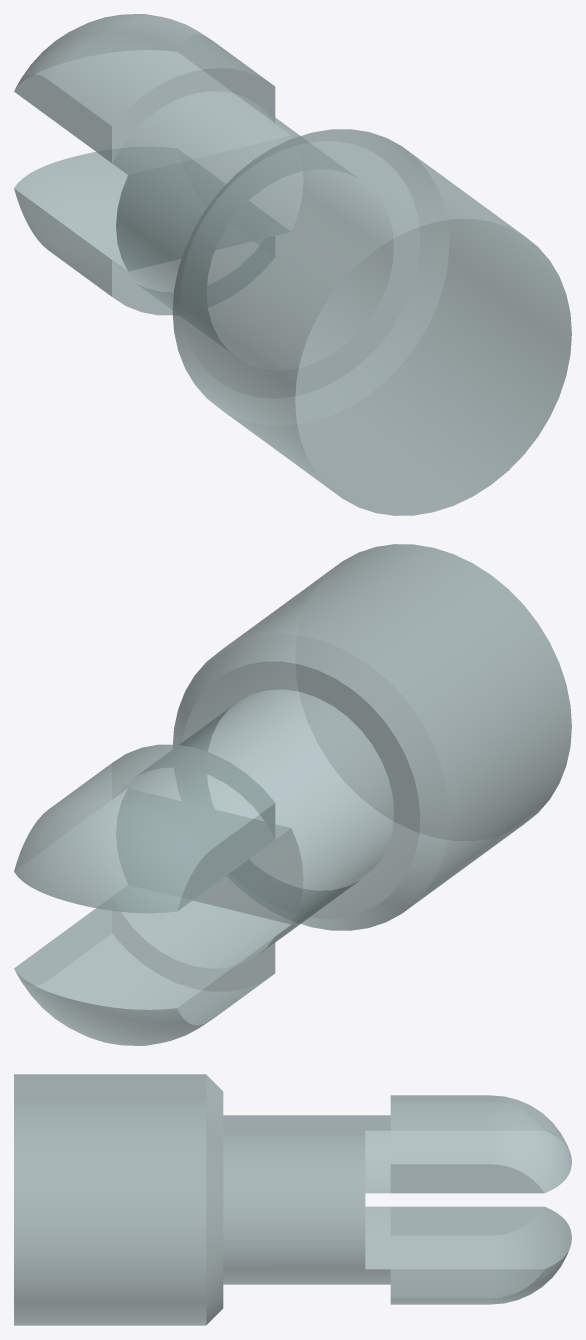
3 renders of one model, top to bottom at view 1: azimuth 30°, elevation 25°; view 2: azimuth 150°, elevation 25°; view 3: azimuth 270°, elevation 25°, orthographic. The views are drawn at different scales.
Parts seen in each view (by area): view 1: Sólido1; view 2: Sólido1; view 3: Sólido1.
Boxes of the visible parts, x1,y1,x2,y2 form: Sólido1: (14,14,571,515); Sólido1: (14,544,571,1045); Sólido1: (14,1074,571,1325).
Size of the model in its own units: 30 by 30 by 66.68.
